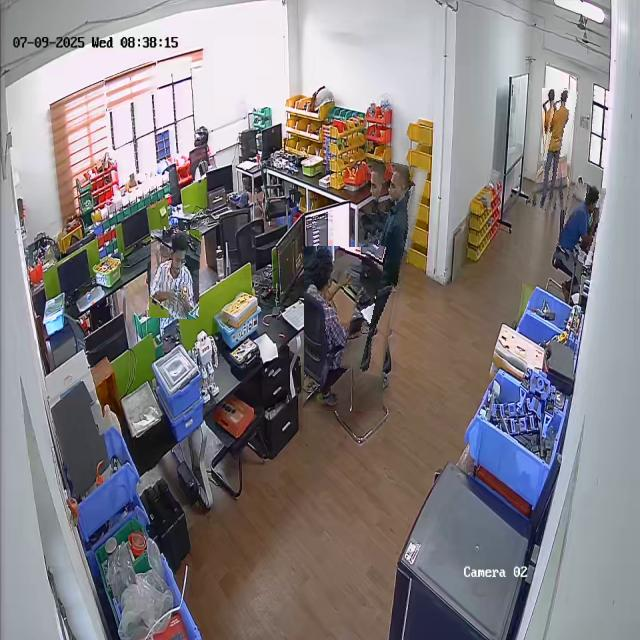person: (351, 162, 417, 376), (304, 247, 384, 411), (536, 87, 574, 211), (150, 230, 200, 319), (558, 183, 603, 264)
